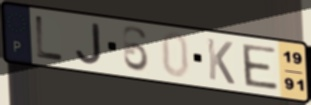0: (158, 30, 192, 81)
6: (121, 25, 151, 75)
E: (239, 43, 280, 93)
J: (74, 22, 105, 67)
K: (205, 36, 237, 87)
L: (34, 14, 66, 63)
